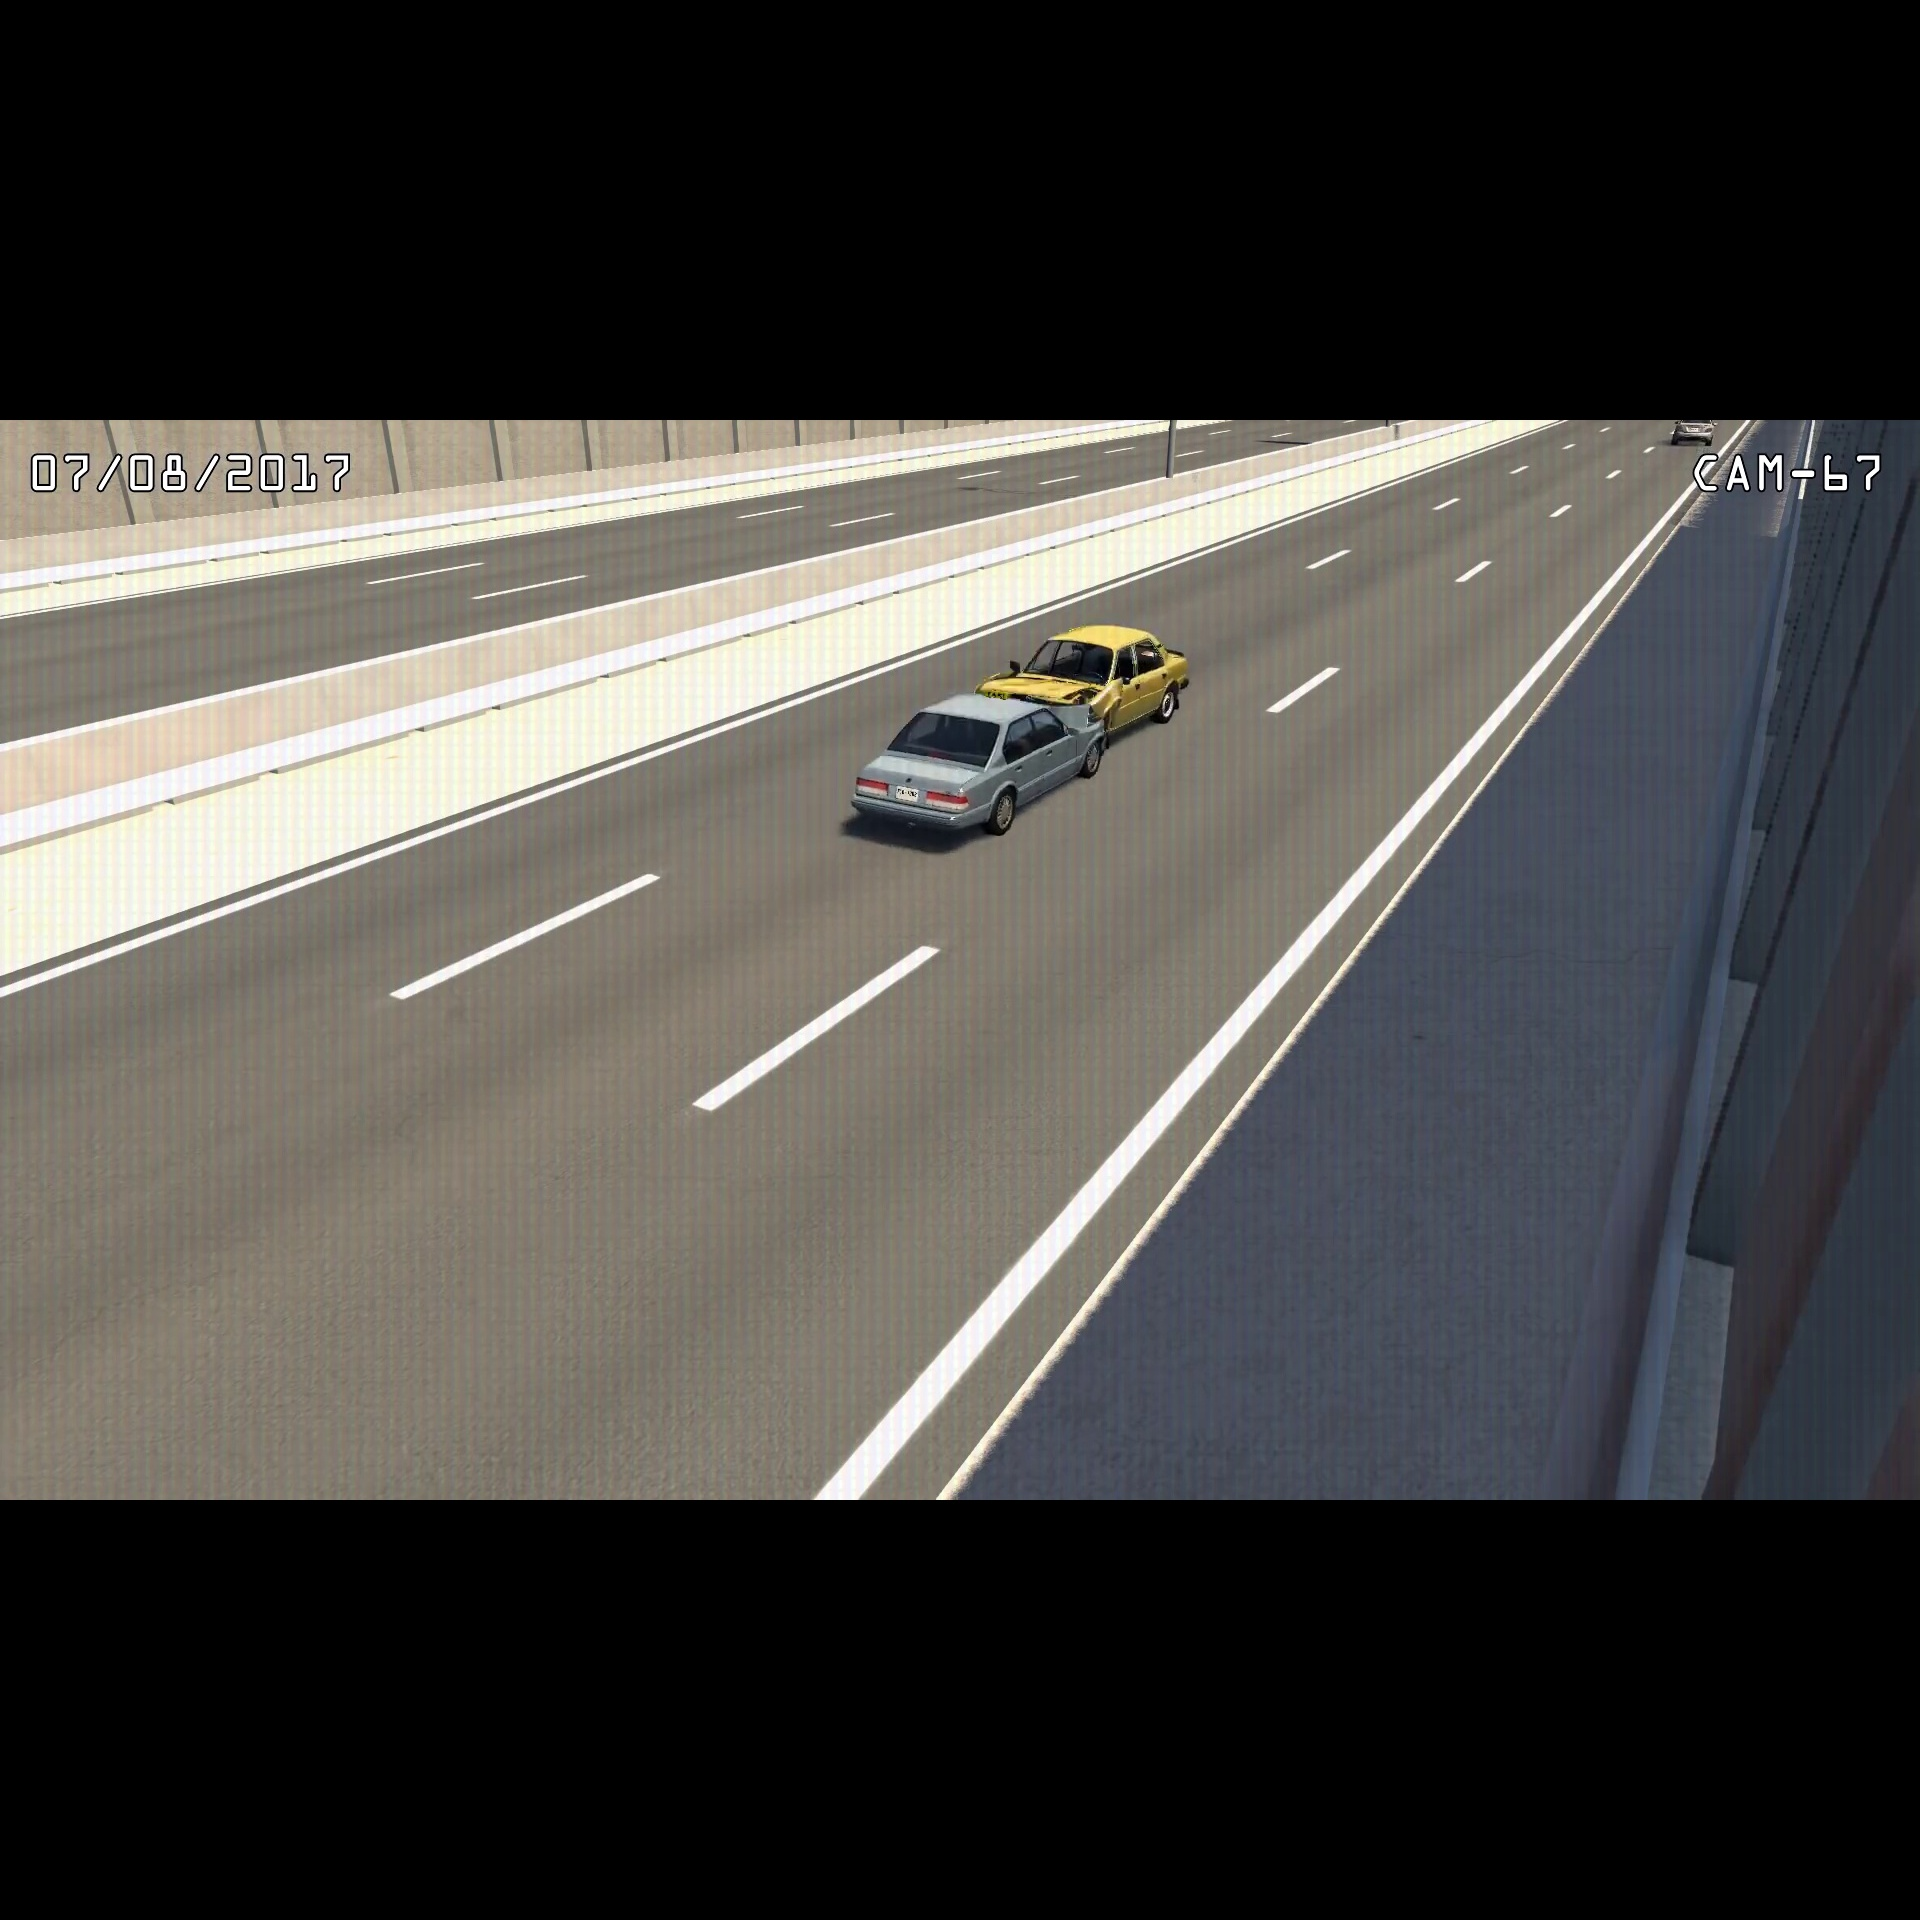vehicle: (846, 693, 1108, 849), (985, 617, 1199, 733), (1670, 418, 1720, 448)
